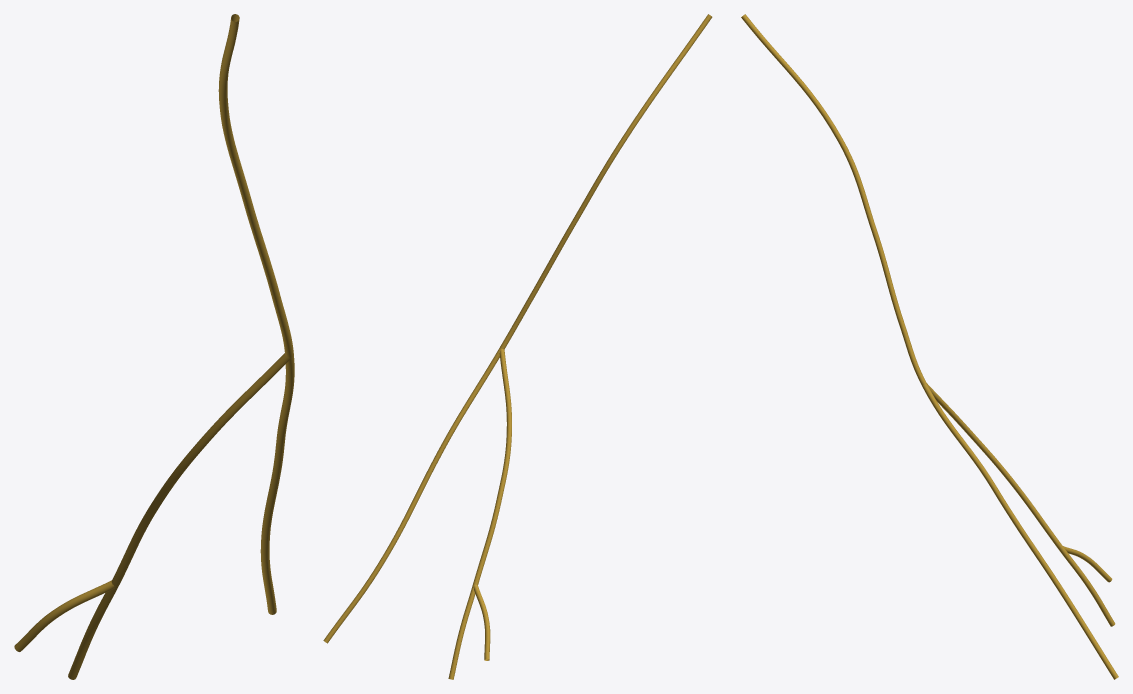
3 views of the same model, side by side, from view 1: azimuth 30°, elevation 25°; view 2: azimuth 150°, elevation 25°; view 3: azimuth 270°, elevation 25° (orthographic). The views are drawn at different scales.
Parts seen in each view (by area): view 1: 右侧足背内侧皮神经; view 2: 右侧足背内侧皮神经; view 3: 右侧足背内侧皮神经.
Part boxes in pixels (box(x1,y1,x2,y2)): 右侧足背内侧皮神经: box(14, 14, 294, 679); 右侧足背内侧皮神经: box(323, 14, 712, 679); 右侧足背内侧皮神经: box(741, 14, 1118, 679).
Bounding box in the file's own units: 0.066 × 0.1684 × 0.1008.
